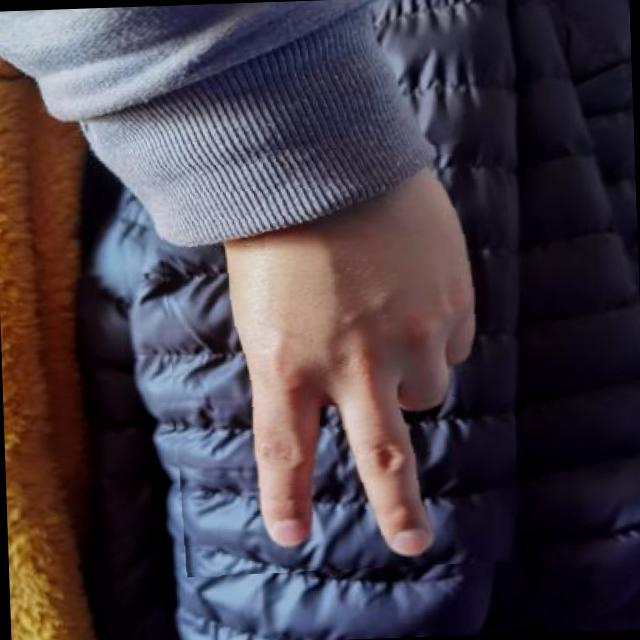N: (156, 142, 520, 578)
